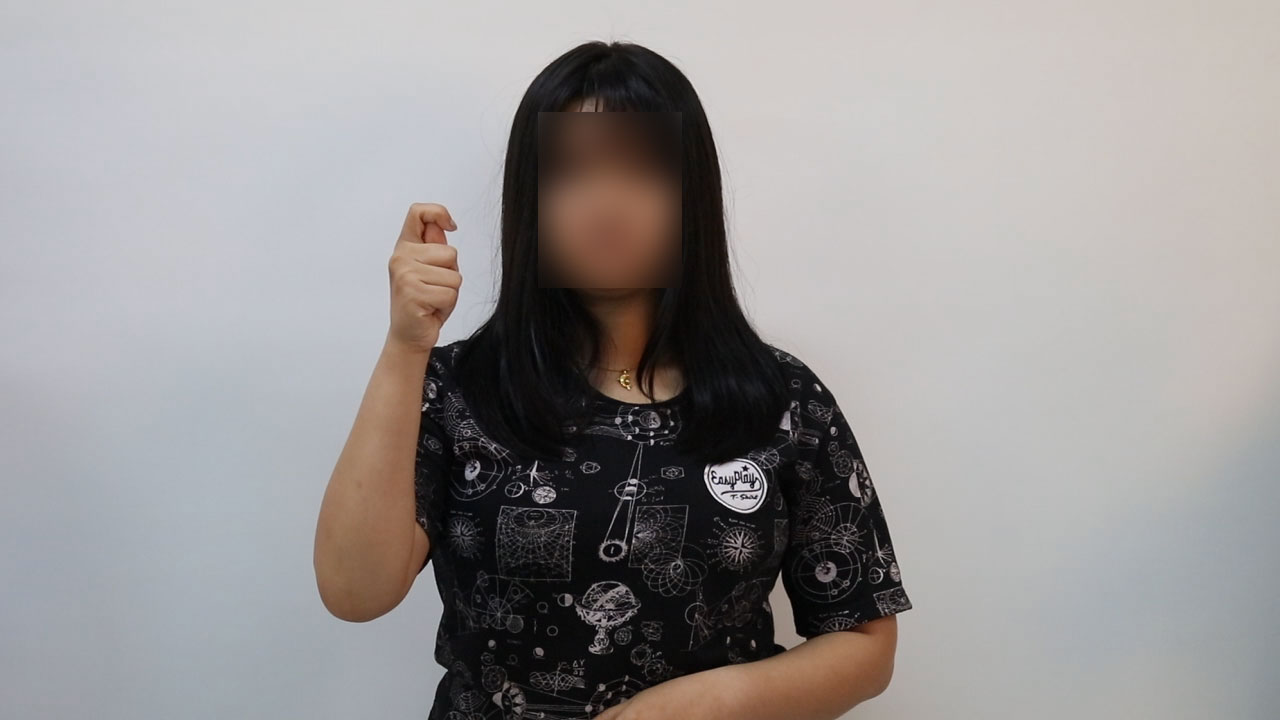or: (369, 195, 481, 359)
